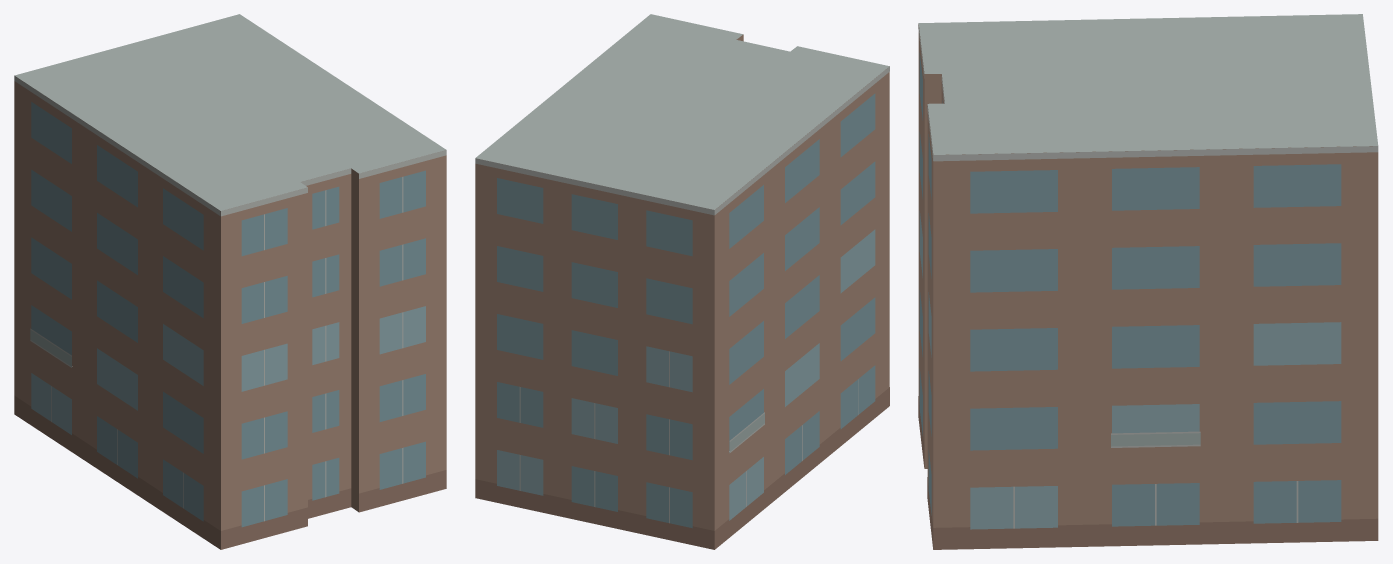
Rendered from survey-upis-32629989.glb.
3 renders of one model, left to right at view 1: azimuth 30°, elevation 25°; view 2: azimuth 150°, elevation 25°; view 3: azimuth 270°, elevation 25°, orthographic. The views are drawn at different scales.
Visible parts, largest first — view 1: survey-upis-32629989.tmp; view 2: survey-upis-32629989.tmp; view 3: survey-upis-32629989.tmp.
Part boxes in pixels (bbox=[...]): survey-upis-32629989.tmp: bbox=[14, 14, 446, 549]; survey-upis-32629989.tmp: bbox=[475, 14, 889, 549]; survey-upis-32629989.tmp: bbox=[918, 14, 1378, 549].
Bounding box in the file's own units: 11.69 × 15.25 × 16.1.
